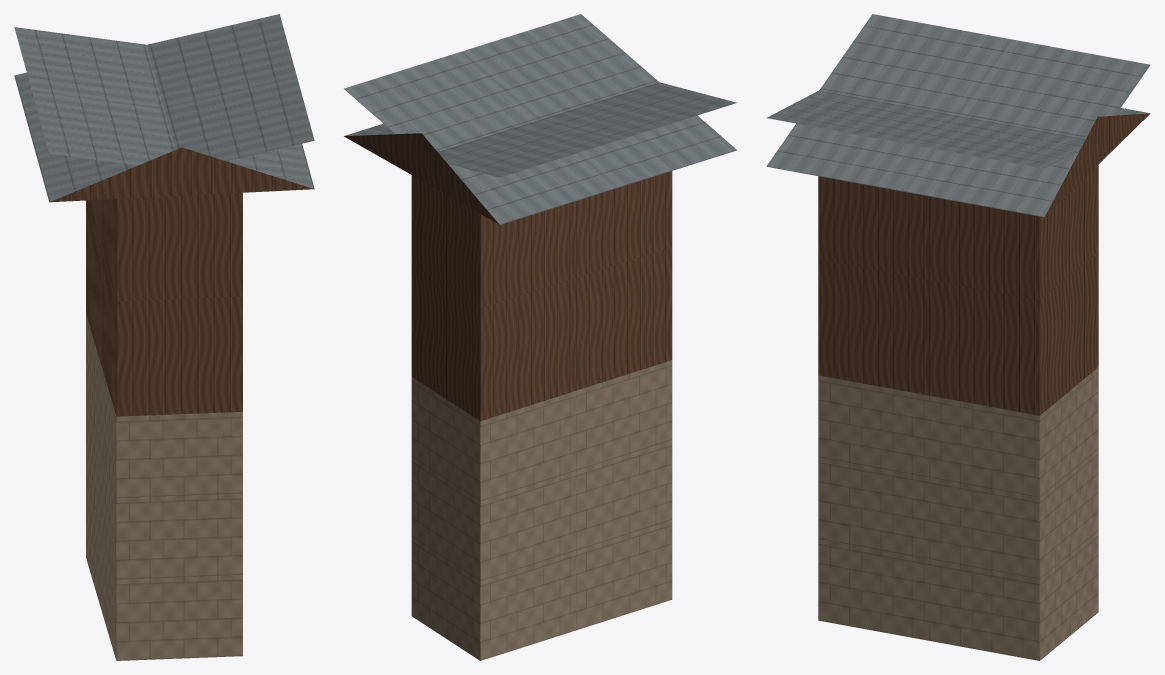
File: bld_c35_-27_453.gltf
3 views of the same model, side by side, from view 1: azimuth 30°, elevation 25°; view 2: azimuth 150°, elevation 25°; view 3: azimuth 270°, elevation 25° (orthographic). The views are drawn at different scales.
Parts seen in each view (by area): view 1: bld_c35_-27_453; view 2: bld_c35_-27_453; view 3: bld_c35_-27_453.
Boxes of the visible parts, left/top/right/bottom form: bld_c35_-27_453: left=14, top=14, right=314, bottom=660; bld_c35_-27_453: left=344, top=14, right=736, bottom=660; bld_c35_-27_453: left=766, top=14, right=1150, bottom=660.
Bounding box in the file's own units: 6.83 × 10.8 × 7.17.
4 materials, 4 textured.
